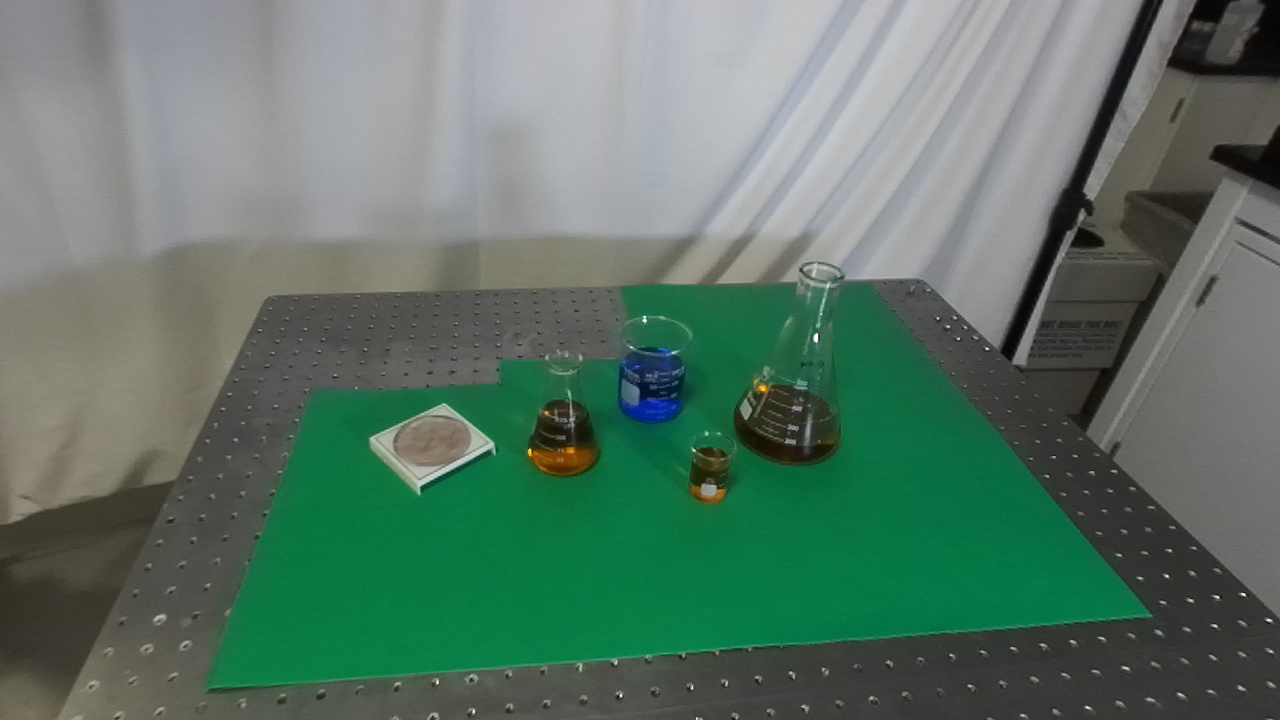glass: (730, 254, 845, 468), (525, 344, 604, 481), (615, 312, 695, 426), (685, 428, 738, 506)
plate: (364, 400, 501, 499)
